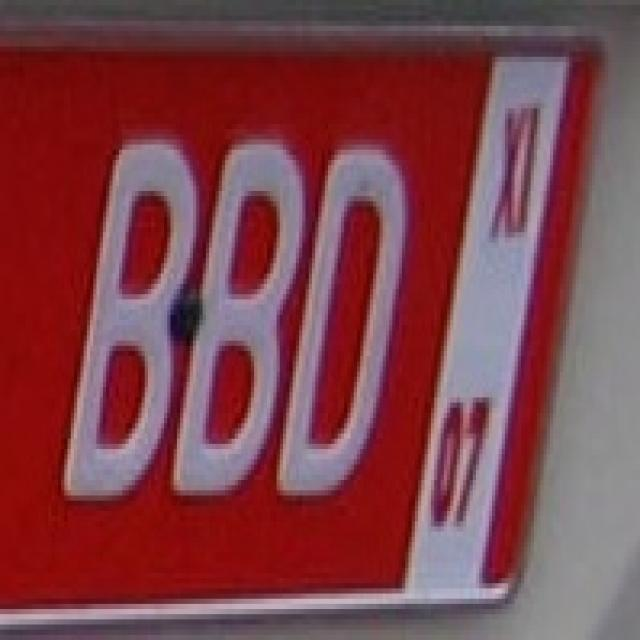licenseplate: (0, 22, 629, 640)
